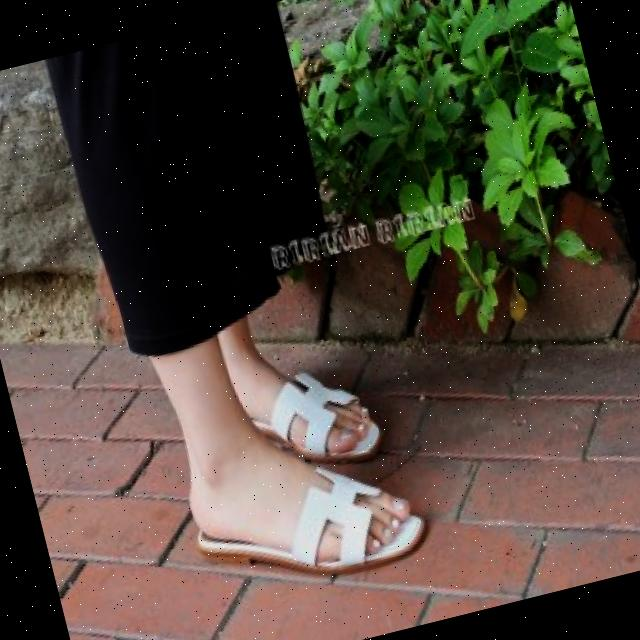no-boots: (148, 396, 439, 640), (213, 333, 398, 499)
